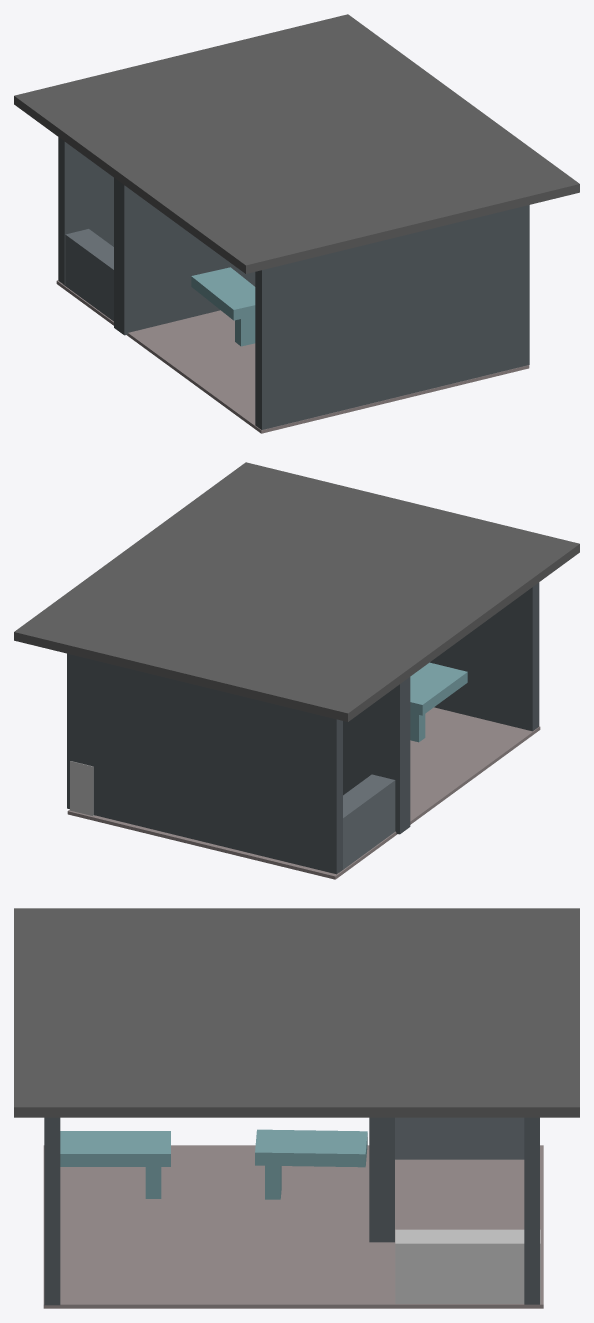
The model's file is Shed_Near_Tractor_FIN.glb.
The picture shows the model from 3 angles, top to bottom: view 1: azimuth 30°, elevation 25°; view 2: azimuth 150°, elevation 25°; view 3: azimuth 270°, elevation 25°; orthographic projection. The views are drawn at different scales.
Visible parts, largest first — view 1: Cube.001, Cube.002, Cube.004, Cube, Cube.003, Cube.005, Cube.008, Cube.009; view 2: Cube.001, Cube.003, Cube.002, Cube, Cube.004, Cube.005, Cube.006, Cube.010; view 3: Cube.001, Cube, Cube.010, Cube.005, Cube.008, Cube.006, Cube.004, Cube.002, Cube.003, Cube.009, Cube.007.
Part boxes in pixels (<box>): Cube.001: <box>14,14,579,273</box>; Cube.002: <box>255,205,529,429</box>; Cube.004: <box>114,178,255,335</box>; Cube: <box>56,280,529,433</box>; Cube.003: <box>58,137,113,284</box>; Cube.005: <box>63,229,113,321</box>; Cube.008: <box>191,267,255,320</box>; Cube.009: <box>235,316,255,346</box>; Cube.001: <box>14,462,579,721</box>; Cube.003: <box>67,653,342,874</box>; Cube.002: <box>430,582,539,731</box>; Cube: <box>67,707,540,879</box>; Cube.004: <box>343,677,410,834</box>; Cube.005: <box>339,774,395,872</box>; Cube.006: <box>410,662,467,715</box>; Cube.010: <box>70,761,94,816</box>; Cube.001: <box>14,908,579,1117</box>; Cube: <box>43,1145,543,1308</box>; Cube.010: <box>395,1229,540,1303</box>; Cube.005: <box>395,1117,524,1159</box>; Cube.008: <box>255,1129,367,1167</box>; Cube.006: <box>60,1131,170,1166</box>; Cube.004: <box>369,1117,394,1242</box>; Cube.002: <box>44,1117,60,1305</box>; Cube.003: <box>524,1117,539,1304</box>; Cube.009: <box>265,1165,281,1199</box>; Cube.007: <box>145,1167,161,1198</box>.
Bounding box in the file's own units: 8.2 × 4.31 × 9.85.
